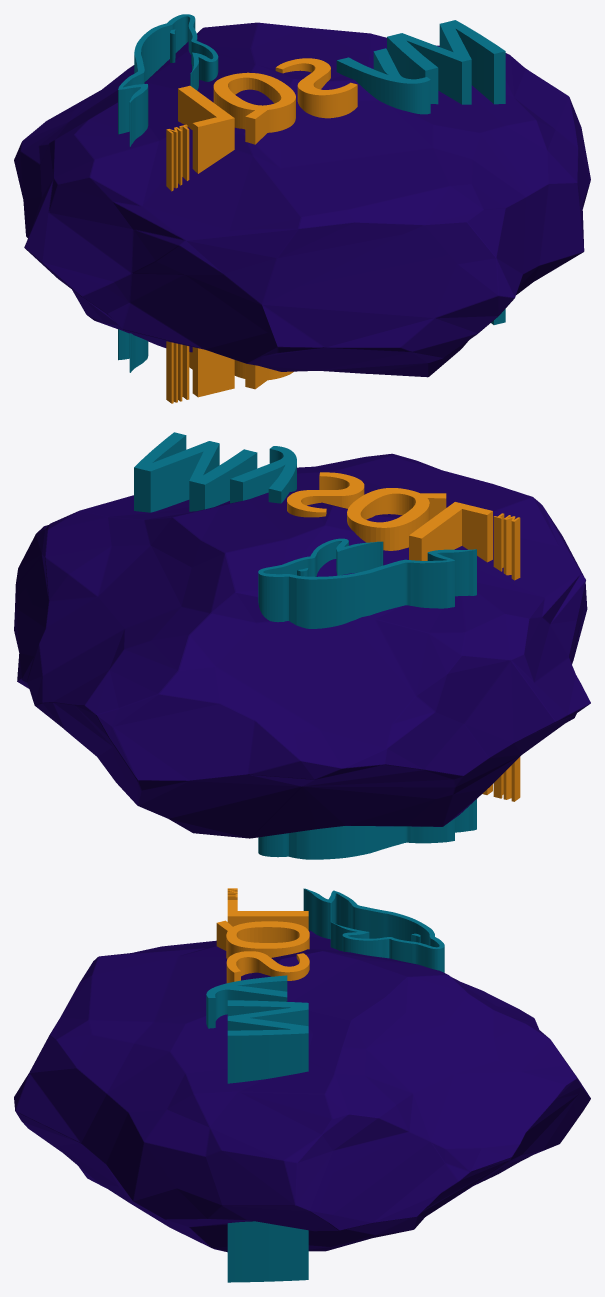
Rendered from mysql.glb.
The picture shows the model from 3 angles, top to bottom: view 1: azimuth 30°, elevation 25°; view 2: azimuth 150°, elevation 25°; view 3: azimuth 270°, elevation 25°; orthographic projection. The views are drawn at different scales.
Parts seen in each view (by area): view 1: Cube.007, Curve.001, Curve, Curve.002; view 2: Cube.007, Curve.002, Curve.001, Curve; view 3: Cube.007, Curve, Curve.002, Curve.001.
Boxes of the visible parts, bbox=[...] form: Cube.007: bbox=[14, 22, 590, 377]; Curve.001: bbox=[166, 58, 357, 403]; Curve: bbox=[336, 20, 505, 324]; Curve.002: bbox=[118, 14, 218, 372]; Cube.007: bbox=[14, 453, 590, 838]; Curve.002: bbox=[258, 538, 476, 859]; Curve.001: bbox=[287, 472, 520, 801]; Curve: bbox=[134, 432, 296, 512]; Cube.007: bbox=[14, 930, 590, 1252]; Curve: bbox=[206, 975, 308, 1282]; Curve.002: bbox=[303, 888, 444, 972]; Curve.001: bbox=[216, 888, 309, 983].
Size of the model in its own units: 2 by 0.9622 by 2.04.
